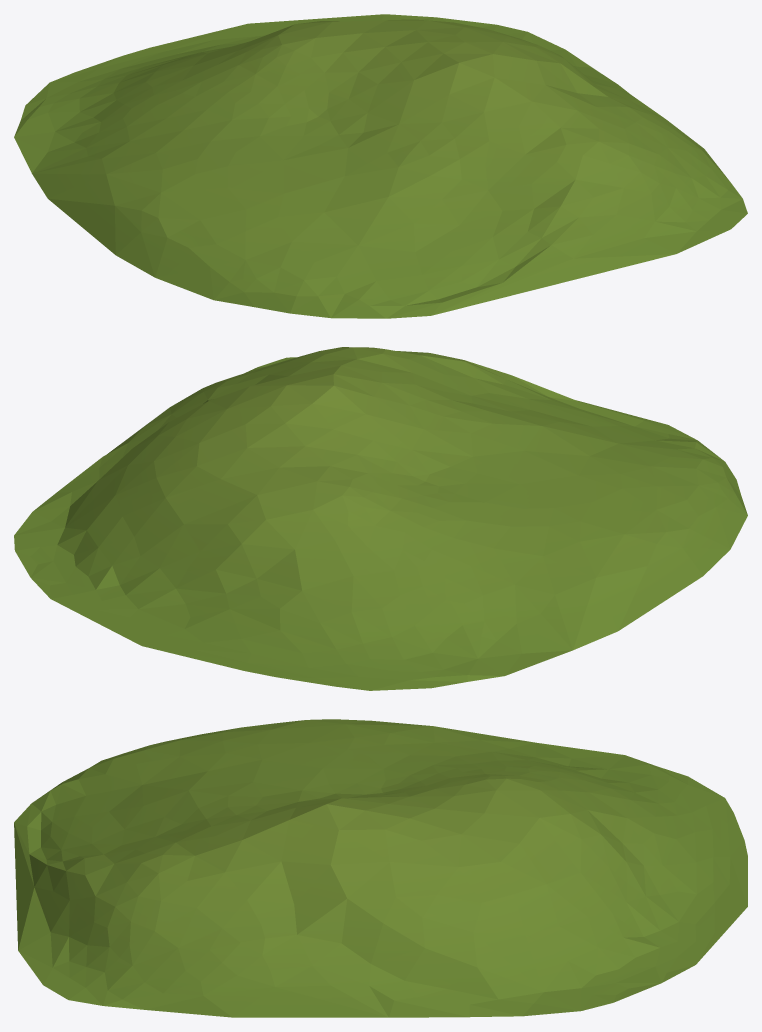
Rendered from Hill_04.glb.
The picture shows the model from 3 angles, top to bottom: view 1: azimuth 30°, elevation 25°; view 2: azimuth 150°, elevation 25°; view 3: azimuth 270°, elevation 25°; orthographic projection. The views are drawn at different scales.
Parts seen in each view (by area): view 1: Hill_04; view 2: Hill_04; view 3: Hill_04.
Boxes of the visible parts, x1,y1,x2,y2 form: Hill_04: [14, 14, 747, 318]; Hill_04: [14, 347, 747, 690]; Hill_04: [14, 719, 747, 1017].
Bounding box in the file's own units: 56.23 × 10.09 × 61.
1 material, 1 textured.
